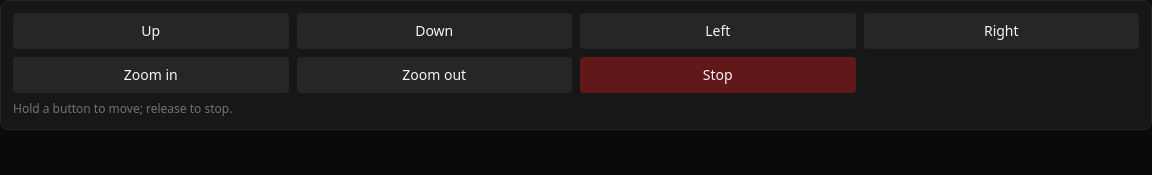
shows a generic message on a non-403 failure
Press the mouse on the button "Up" at (151, 31), box [13, 13, 288, 49]
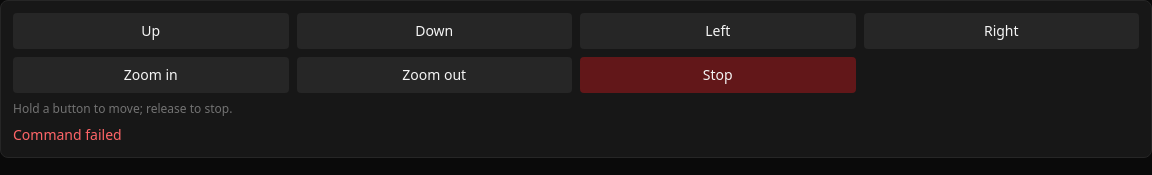
Expected: the message does not show "boom", [13, 125, 122, 144]
Result: the message reads "Command failed" at [13, 125, 122, 144]
